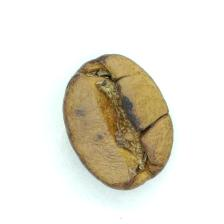NG: (84, 66, 154, 174)
